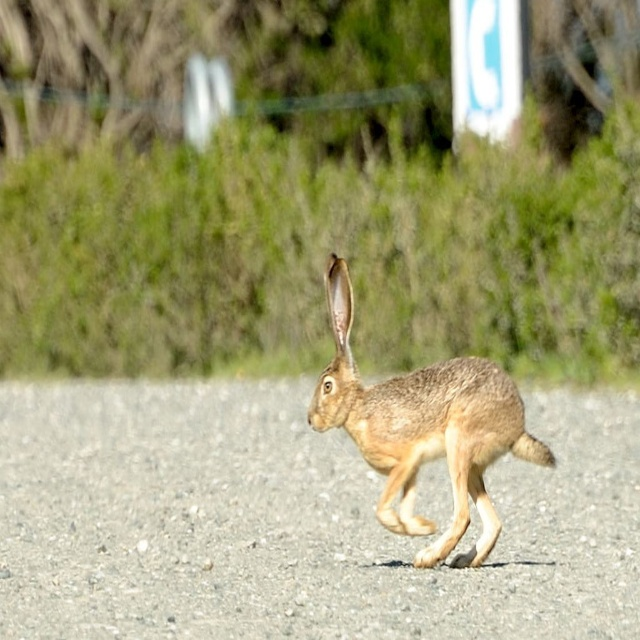Rabbit: (306, 246, 563, 569)
